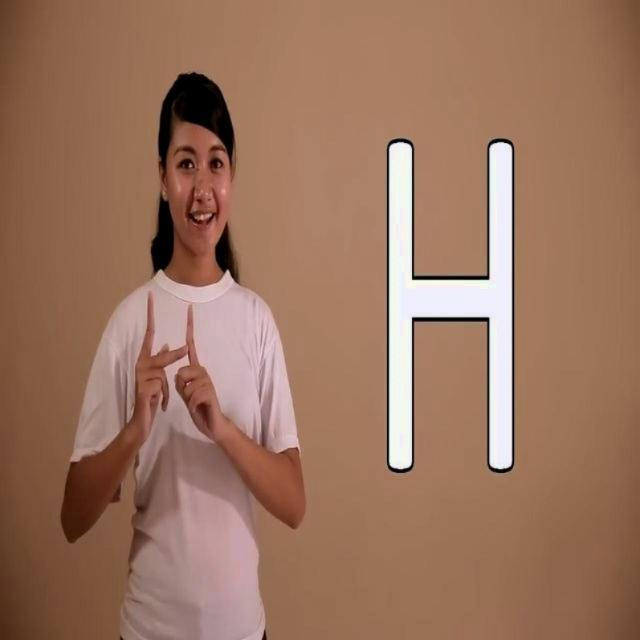H: (125, 289, 218, 412)
